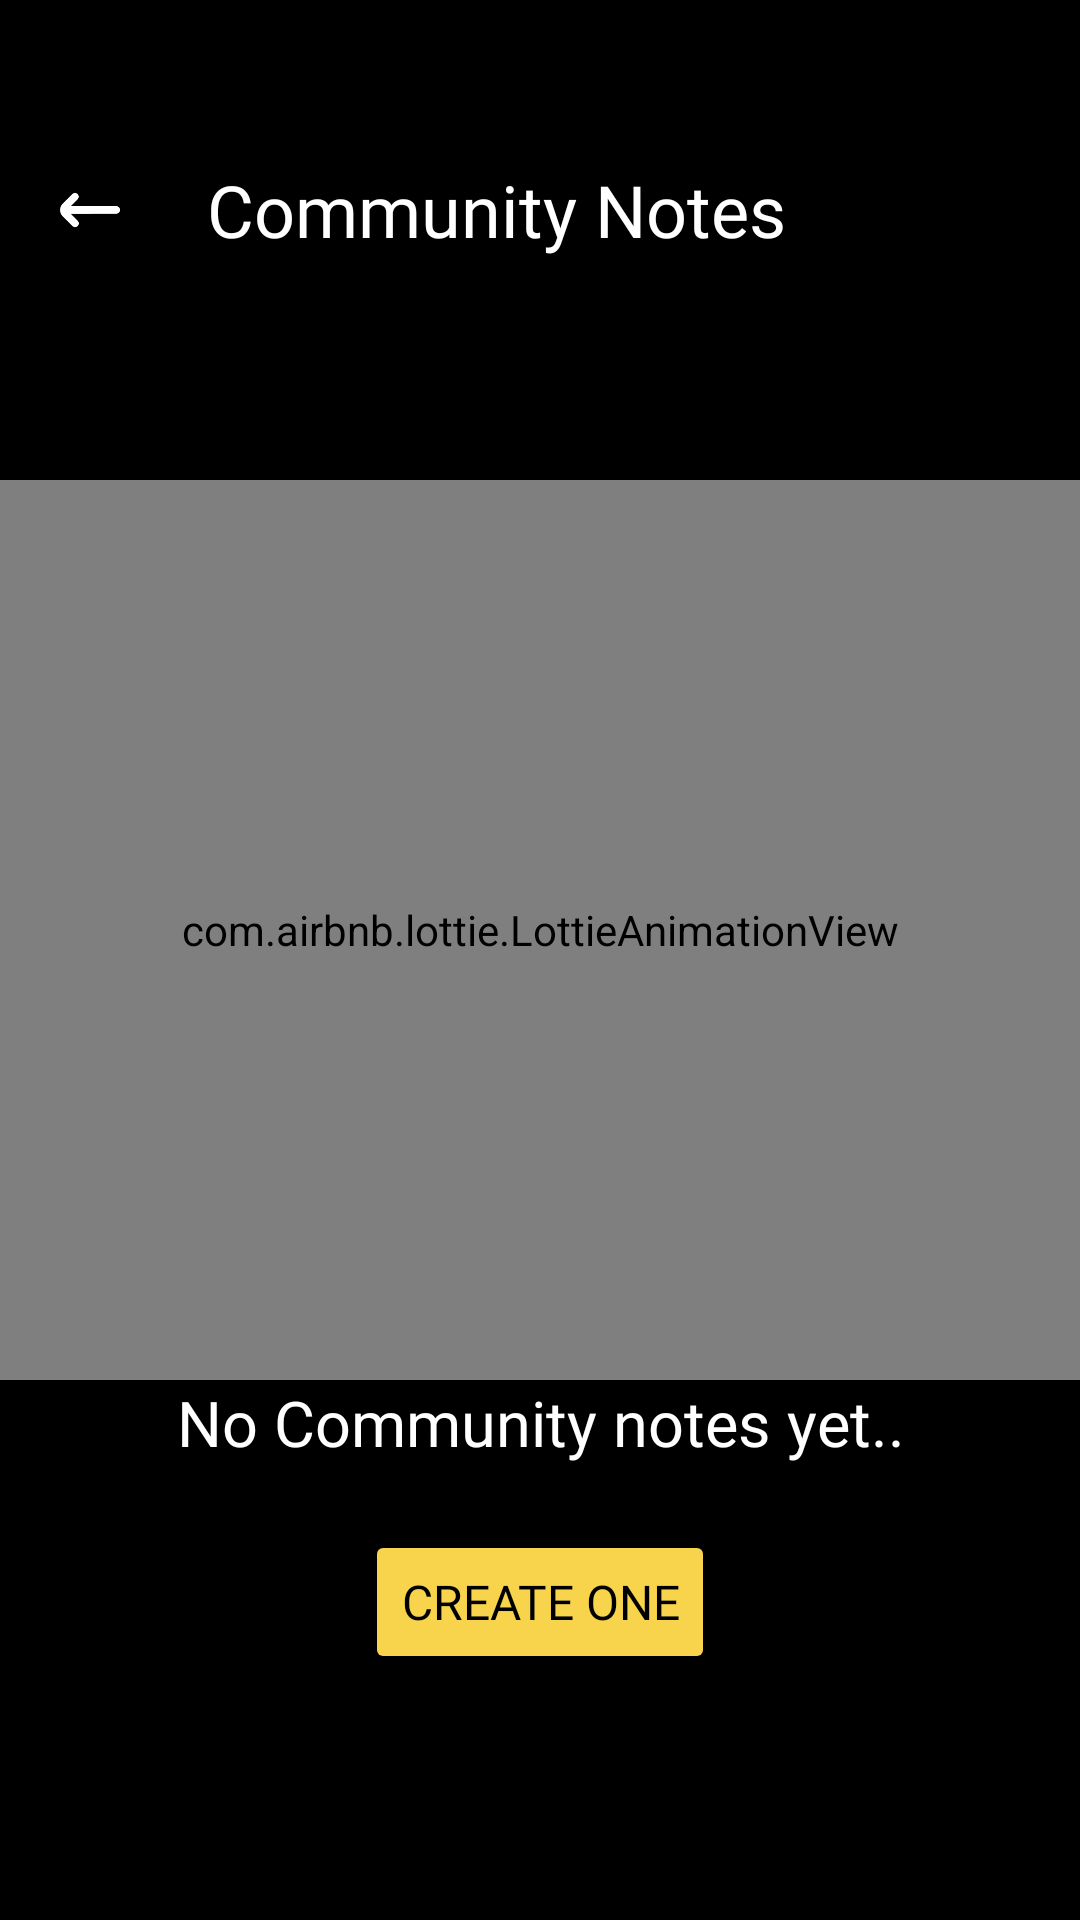

Locate icon controls on the screen. Image size 1080px×1920px, boxes as (x1, y1, x2, y2).
back: (60, 193, 120, 227)
